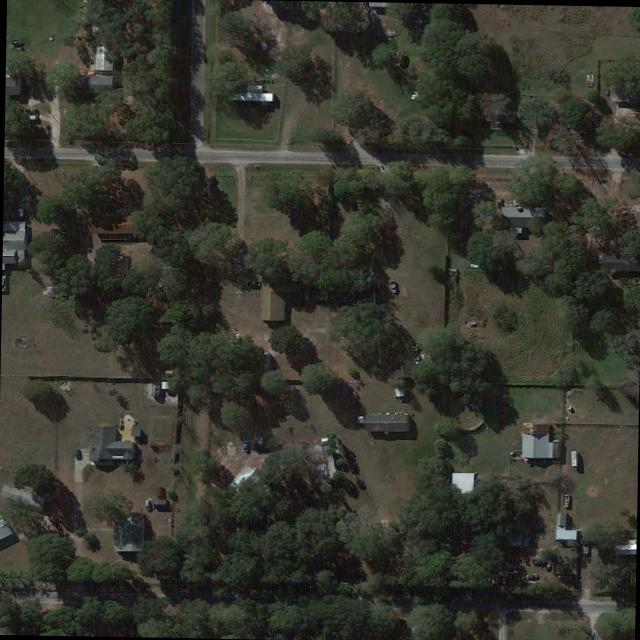ship: (561, 487, 568, 506)
small-vehicle: (261, 350, 270, 363), (398, 53, 406, 65), (240, 439, 248, 451), (24, 106, 36, 113), (246, 281, 261, 286), (389, 281, 395, 292), (73, 447, 79, 458), (17, 207, 23, 217), (496, 197, 502, 207), (144, 498, 149, 509), (523, 573, 536, 577)
